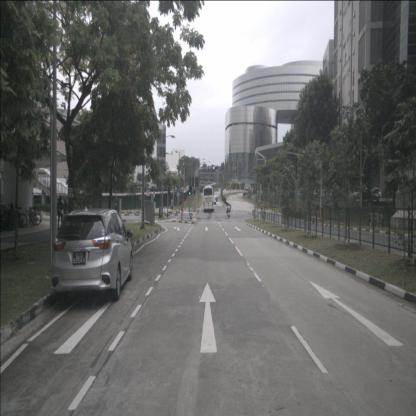human-pedestrian-adult: (57, 196, 63, 229), (68, 199, 73, 225), (63, 198, 68, 223), (316, 202, 320, 218), (115, 200, 118, 217)
vehicle-bus-rigid: (203, 185, 214, 211)
vehicle-car: (51, 208, 133, 301), (211, 198, 216, 206)
vehicle-motorcycle: (226, 203, 230, 219)
